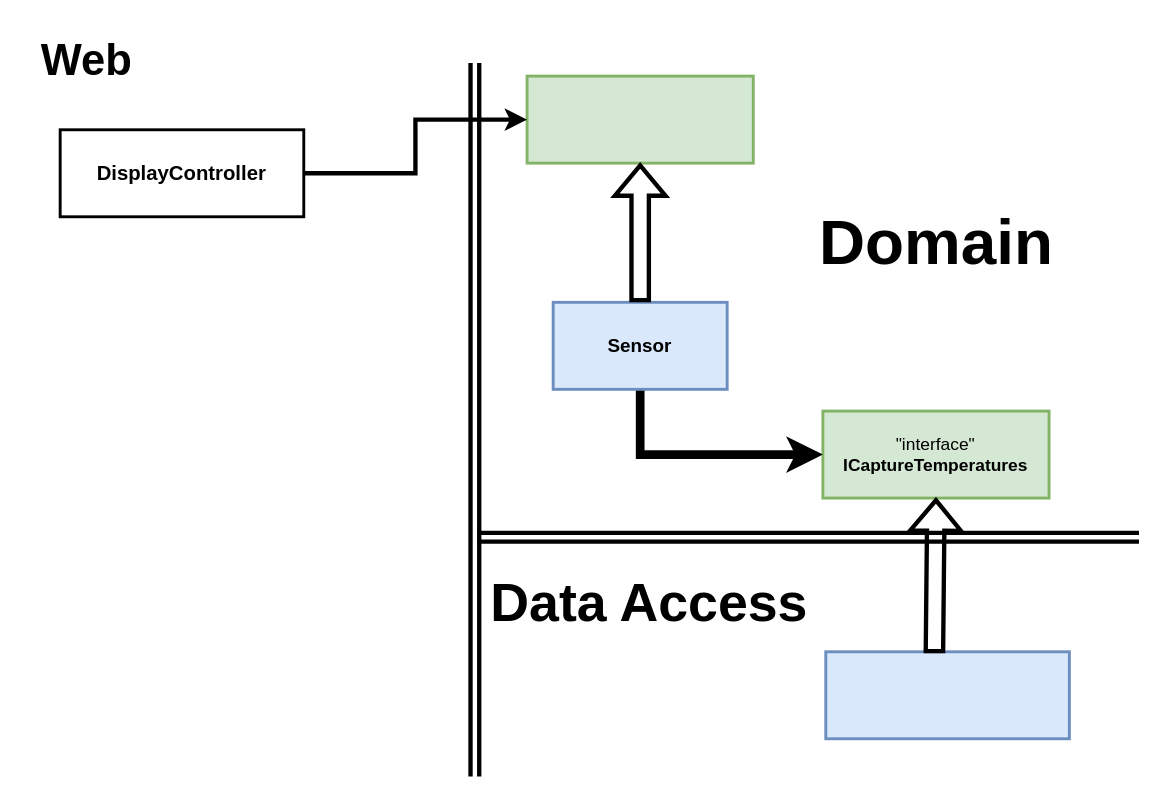
The diagram is 1166 pixels wide and 803 high, and some of its shapes have lost their labels. Each missing label, with the centre of its shape:
"interface" IDisplayTemperatures: [639,119]
TemperaturesCaptor: [947,695]
